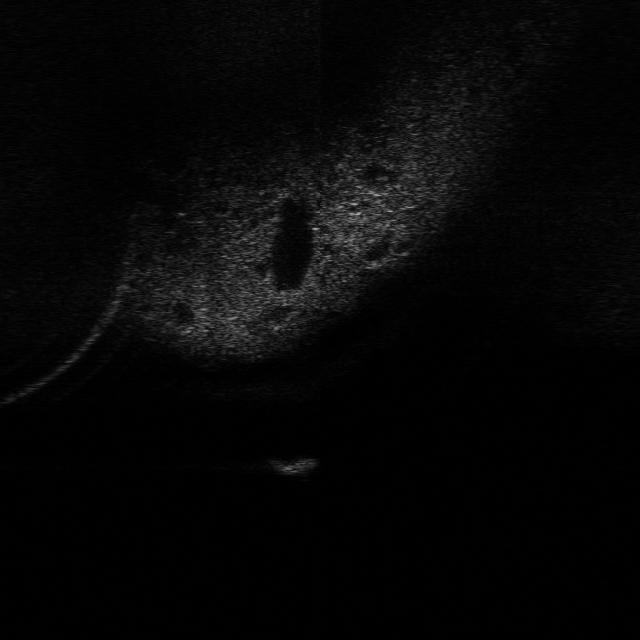cube: (263, 449, 326, 479)
